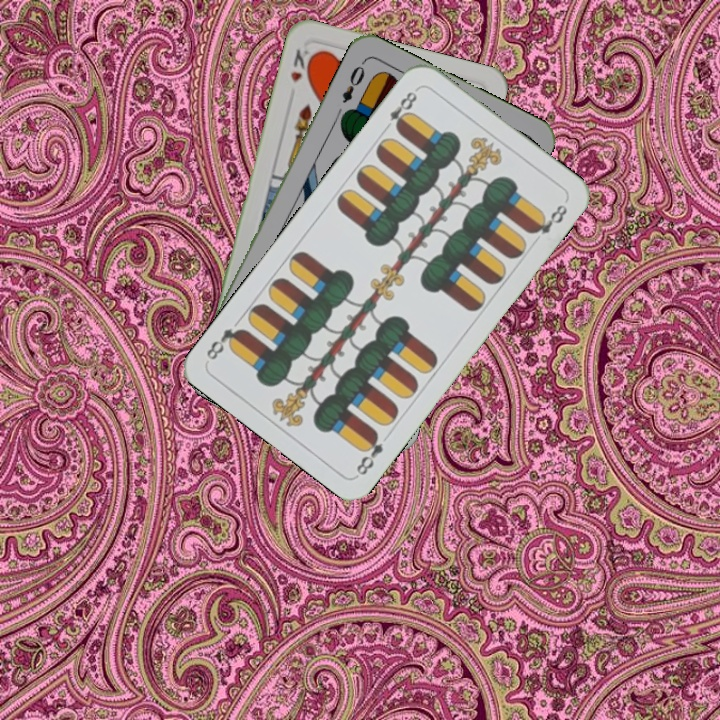E8: (379, 84, 421, 134), (352, 428, 386, 478)
EO: (338, 57, 368, 106)
HK: (286, 45, 317, 85)
